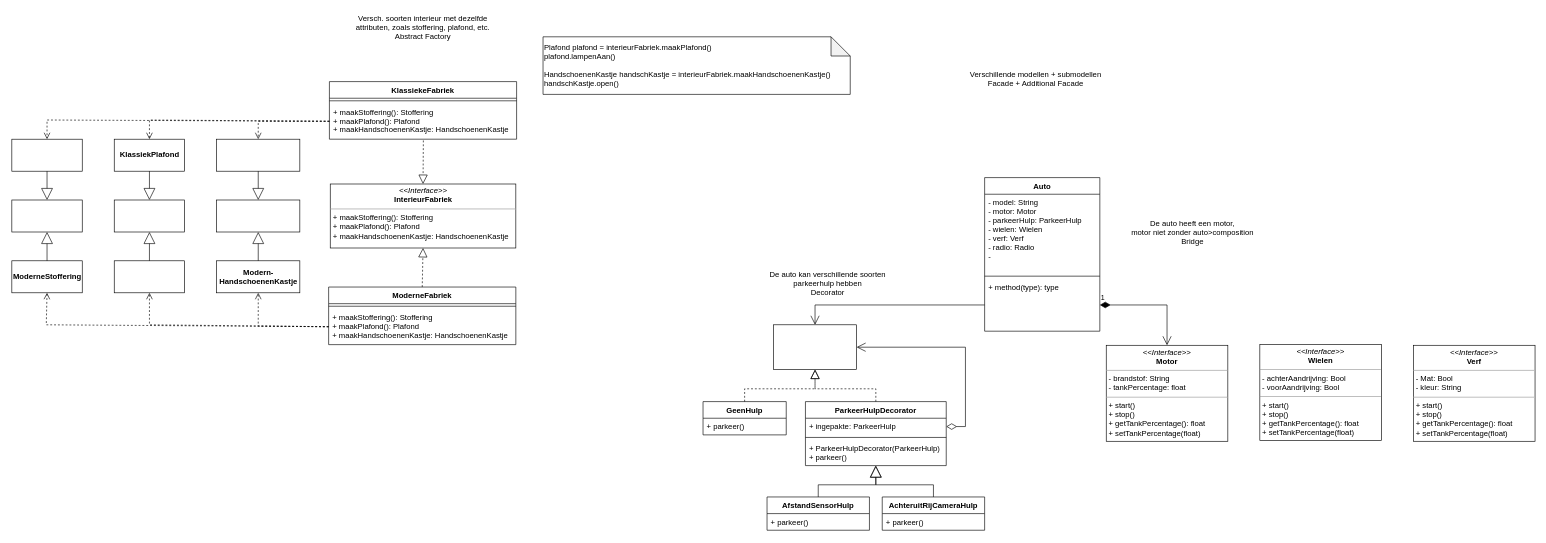
Some shapes in this 1546 by 543 pixel diagram are drawn without their labels. Each missing label, with the centre of its shape:
<<Interface>> ParkeerHulp + parkeer(): the point at 815,347
Klassiek- HandschoenenKastje: the point at 258,155
KlassiekeStoffering: the point at 46,155
ModernPlafond: the point at 149,276
«interface» HandschoenenKastje: the point at 258,215
«interface» Plafond: the point at 149,215
«interface» Stoffering: the point at 46,215
